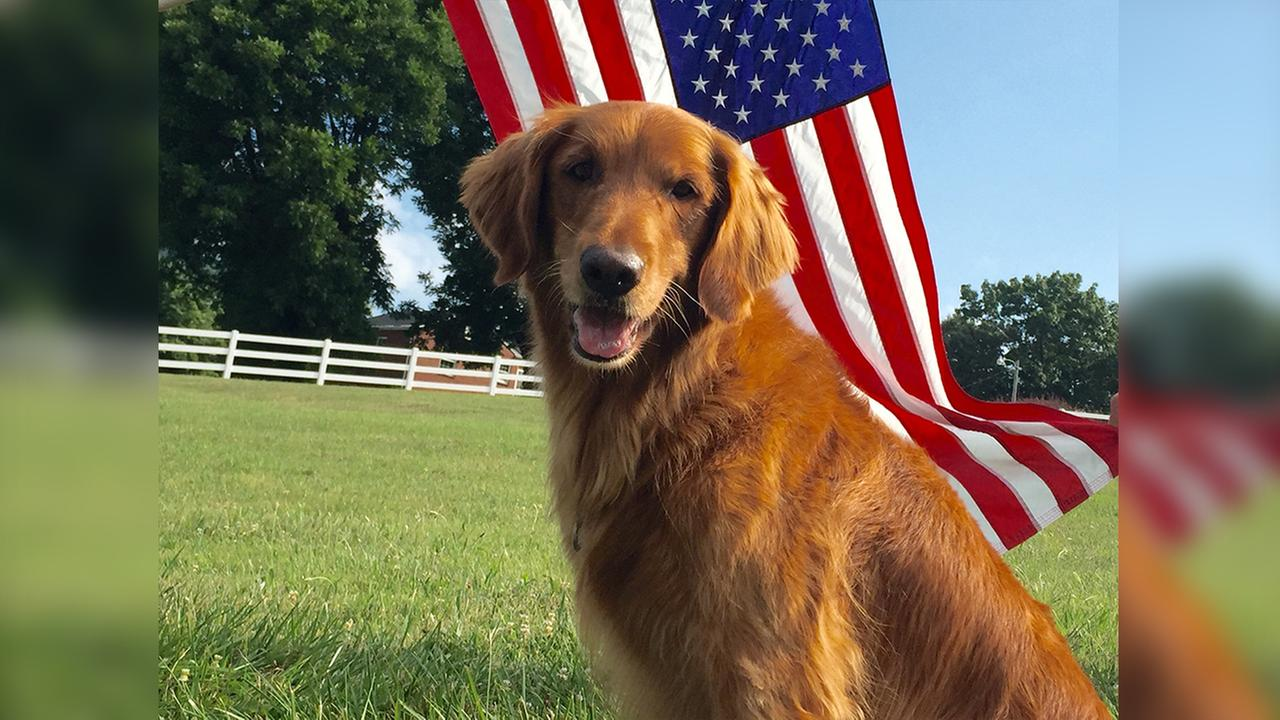dog: (456, 94, 1107, 720)
